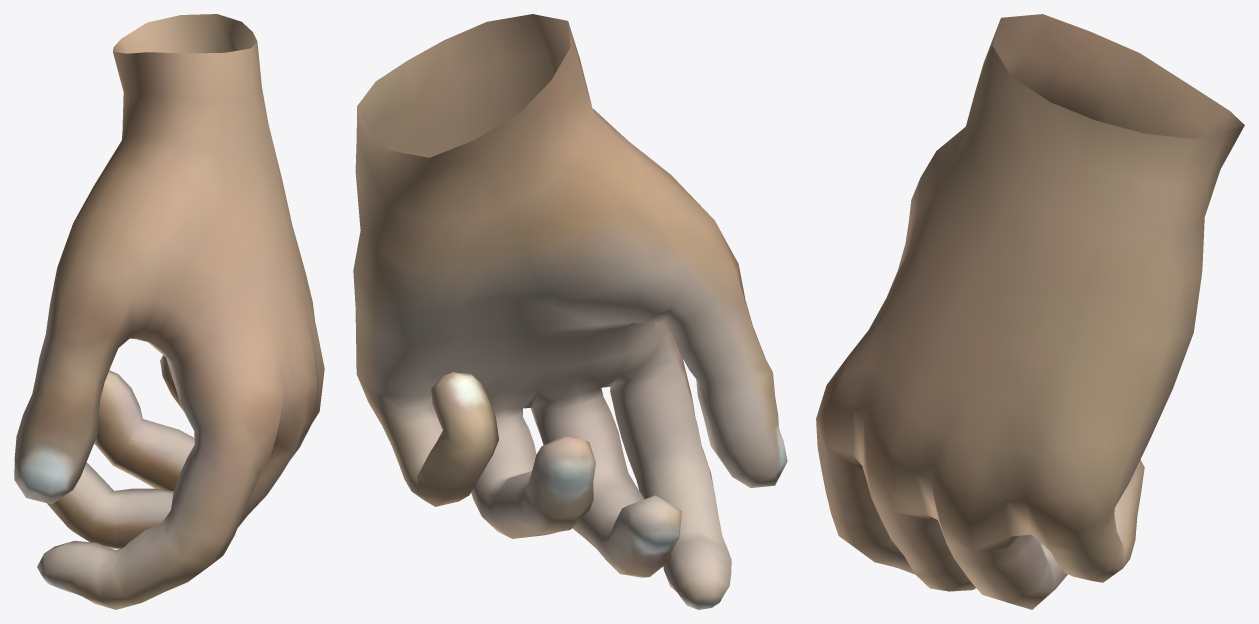
File: male_hand_b.glb
3 renders of one model, left to right at view 1: azimuth 30°, elevation 25°; view 2: azimuth 150°, elevation 25°; view 3: azimuth 270°, elevation 25°, orthographic. The views are drawn at different scales.
Parts seen in each view (by area): view 1: StaticMeshDemo.003; view 2: StaticMeshDemo.003; view 3: StaticMeshDemo.003.
Part boxes in pixels (<box>): StaticMeshDemo.003: <box>14,14,324,609</box>; StaticMeshDemo.003: <box>353,14,787,609</box>; StaticMeshDemo.003: <box>816,14,1244,609</box>.
Bounding box in the file's own units: 0.1383 × 0.2022 × 0.128.
1 material, 1 textured.
